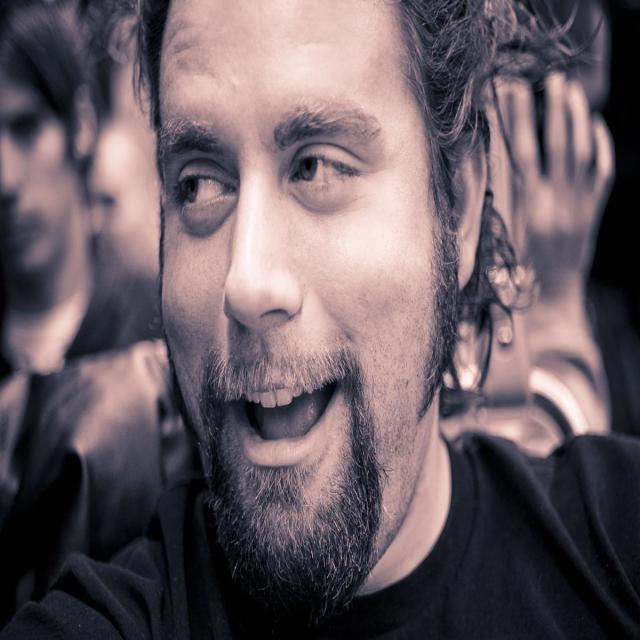no-glass: (172, 146, 366, 225)
